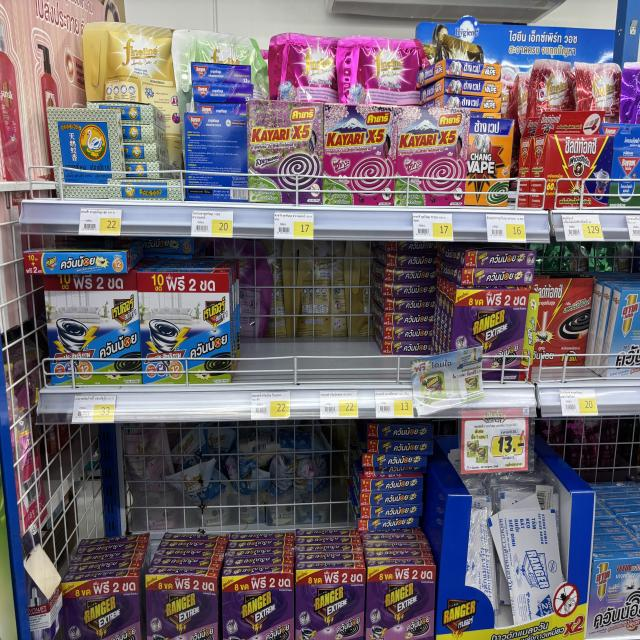empty_shelf: (235, 259, 445, 385)
